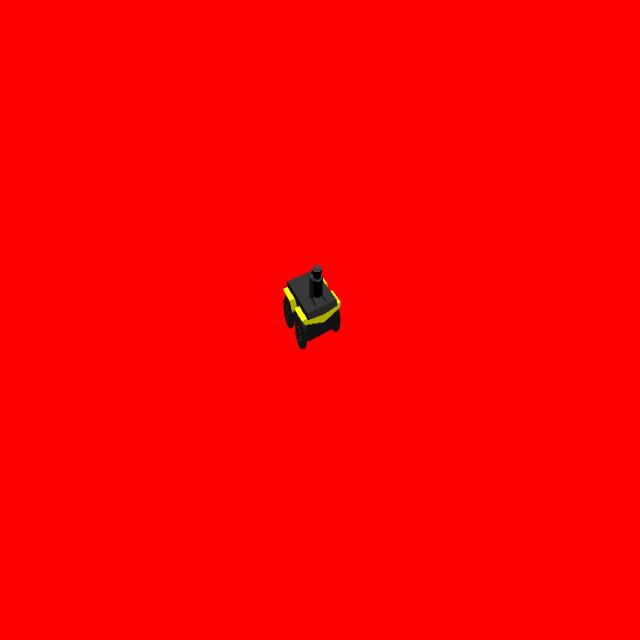jackal: (283, 258, 342, 353)
